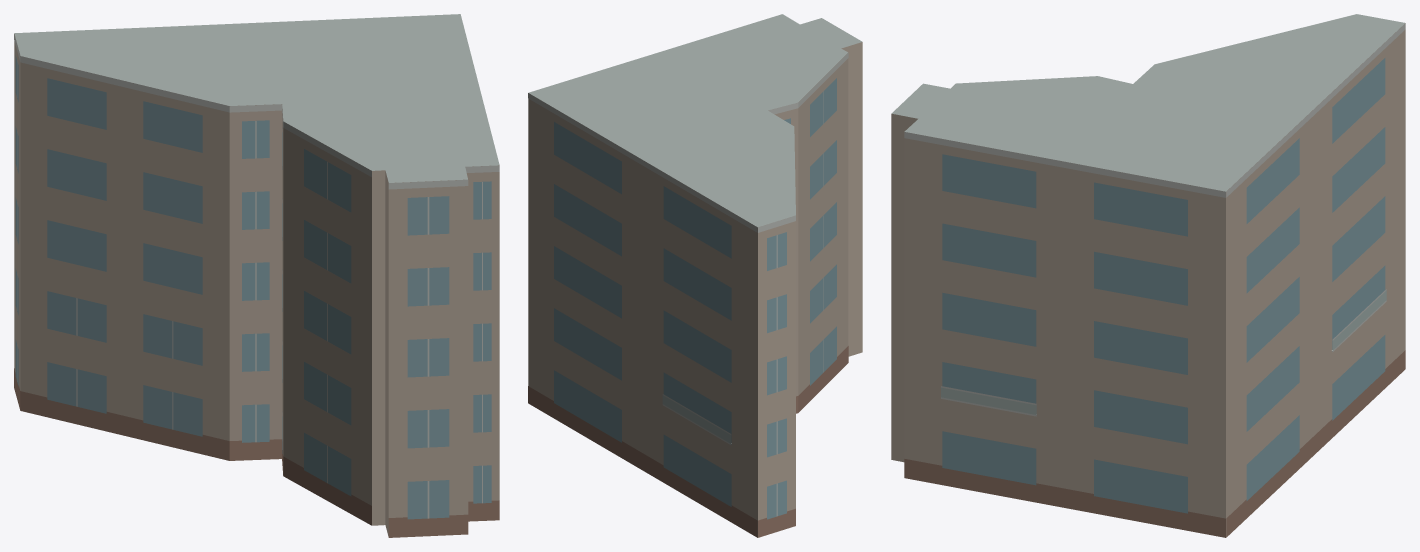
The model's file is survey-upis-32698075.glb.
The picture shows the model from 3 angles, left to right: view 1: azimuth 30°, elevation 25°; view 2: azimuth 150°, elevation 25°; view 3: azimuth 270°, elevation 25°; orthographic projection. The views are drawn at different scales.
Parts seen in each view (by area): view 1: survey-upis-32698075.tmp; view 2: survey-upis-32698075.tmp; view 3: survey-upis-32698075.tmp.
Boxes of the visible parts, left/top/right/bottom form: survey-upis-32698075.tmp: left=14, top=14, right=499, bottom=537; survey-upis-32698075.tmp: left=528, top=14, right=862, bottom=537; survey-upis-32698075.tmp: left=891, top=14, right=1405, bottom=537.
Bounding box in the file's own units: 14.76 × 13.4 × 18.05.
